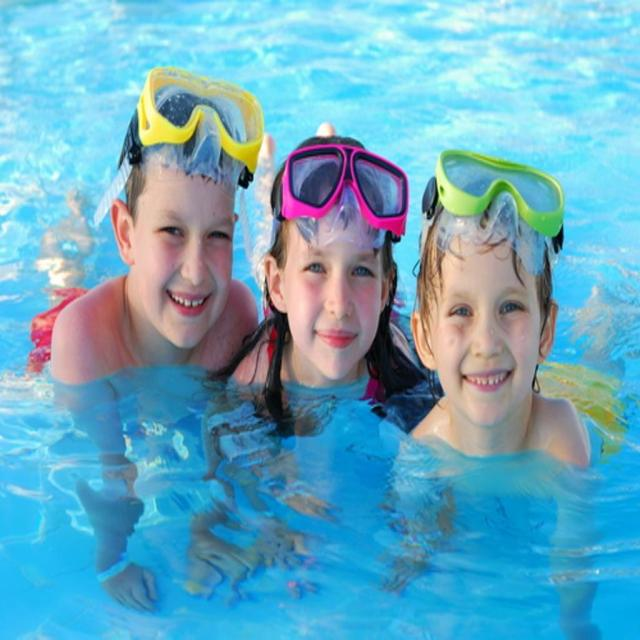Face: (119, 94, 243, 351), (423, 190, 550, 438), (272, 160, 387, 386)
